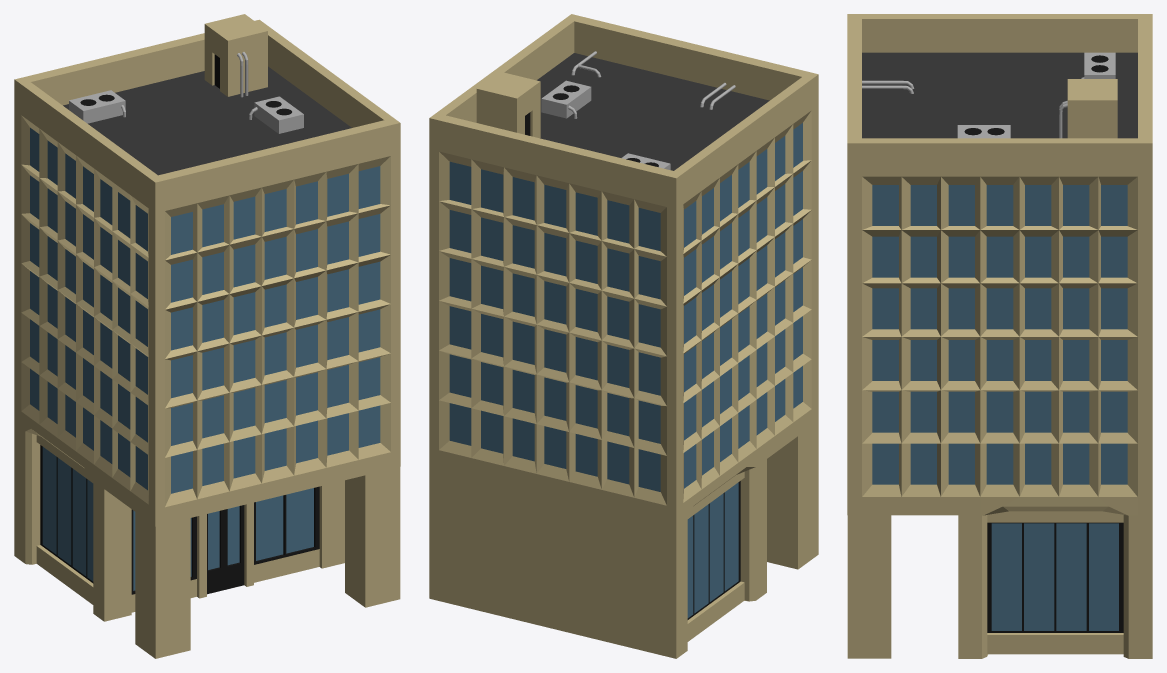
Rendered from office_01.fbx.
3 renders of one model, left to right at view 1: azimuth 30°, elevation 25°; view 2: azimuth 150°, elevation 25°; view 3: azimuth 270°, elevation 25°, orthographic. The views are drawn at different scales.
Visible parts, largest first — view 1: Cube; view 2: Cube; view 3: Cube.
Boxes of the visible parts, x1=… form: Cube: x1=14, y1=14, x2=400, y2=658; Cube: x1=429, y1=14, x2=818, y2=658; Cube: x1=847, y1=14, x2=1152, y2=658.
Size of the model in its own units: 1401 by 2738 by 1395.
